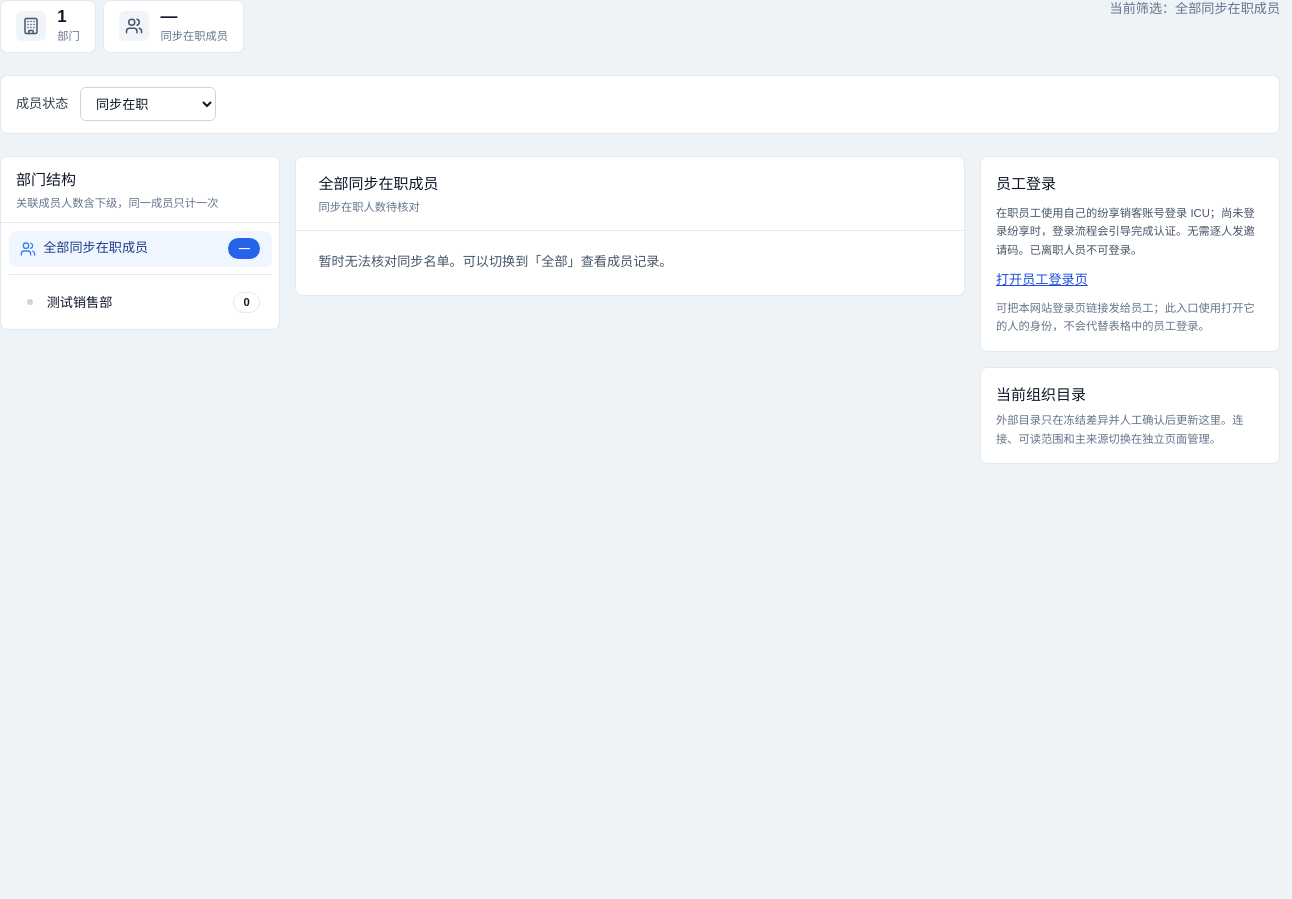
Test case: rejects cross-department readback after a department permission write
The width and height of the screenshot is (1292, 899).
Click the button "测试销售部 0". click: click(80, 303)
box: [27,292,260,313]
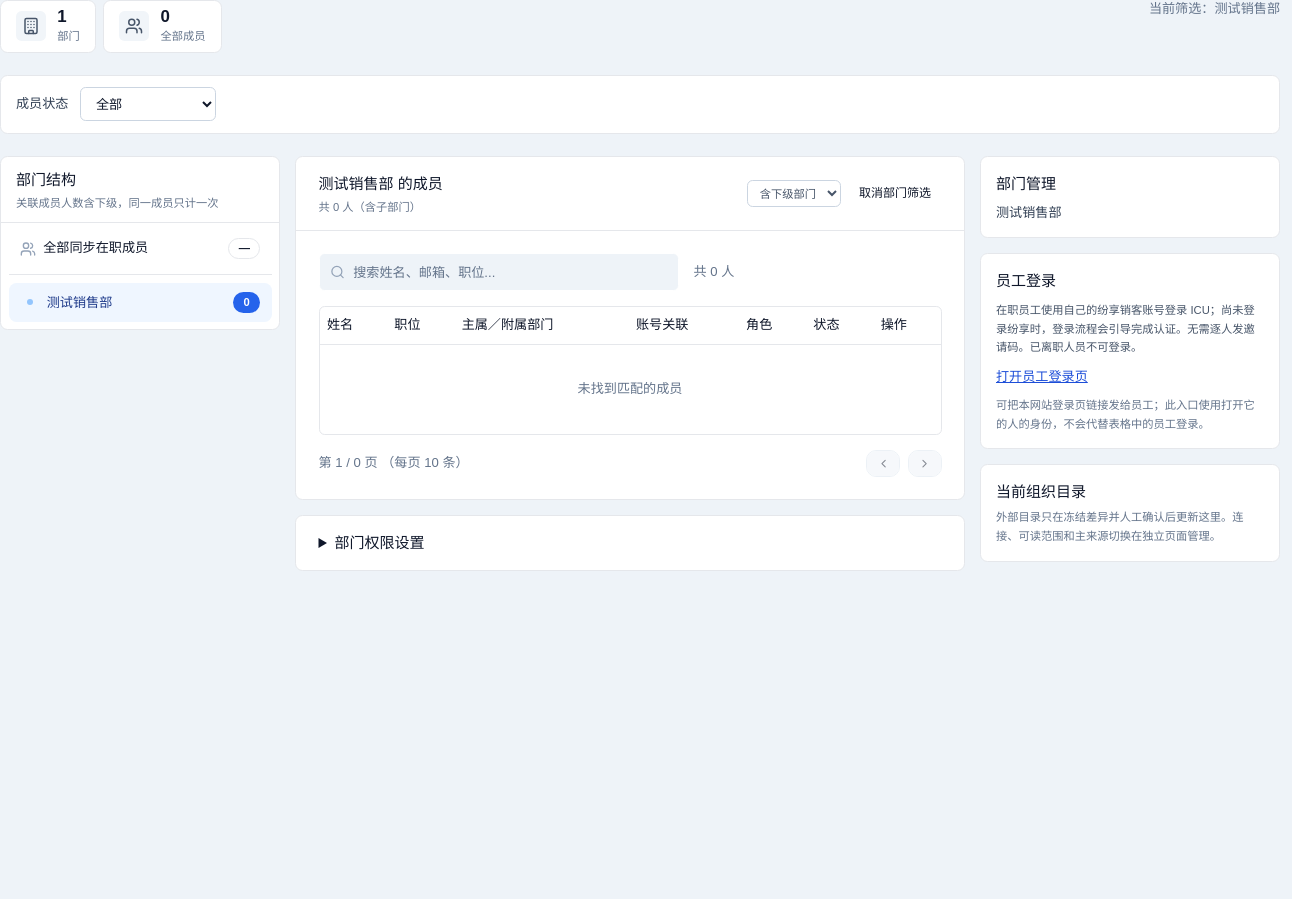
Click the heading "部门权限设置". click: click(379, 543)
box: [334,534,424,551]
(page scrolled)
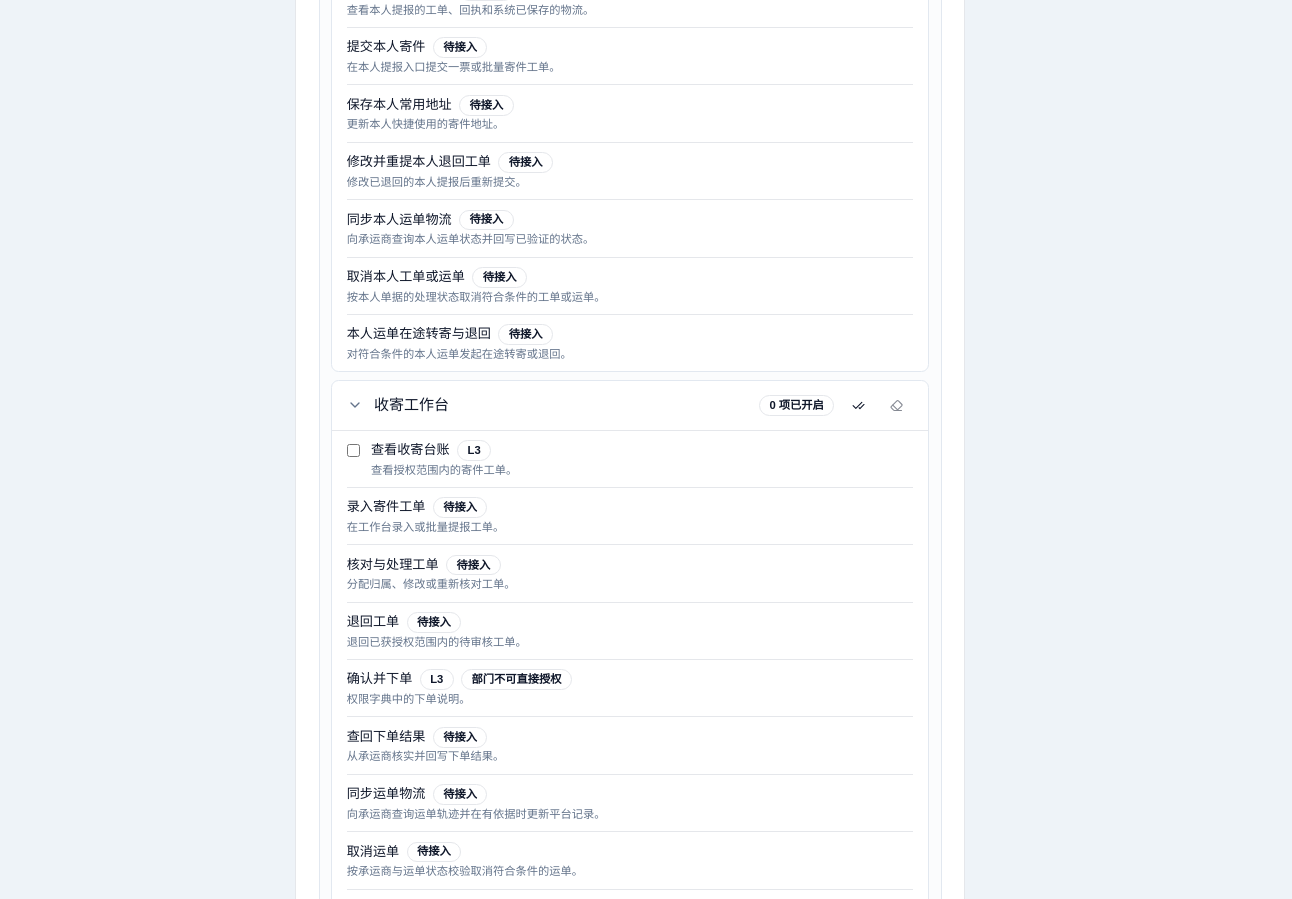
Click the checkbox named "查看收寄台账". click: click(353, 450)
box: [347,444,360,457]
(page scrolled)
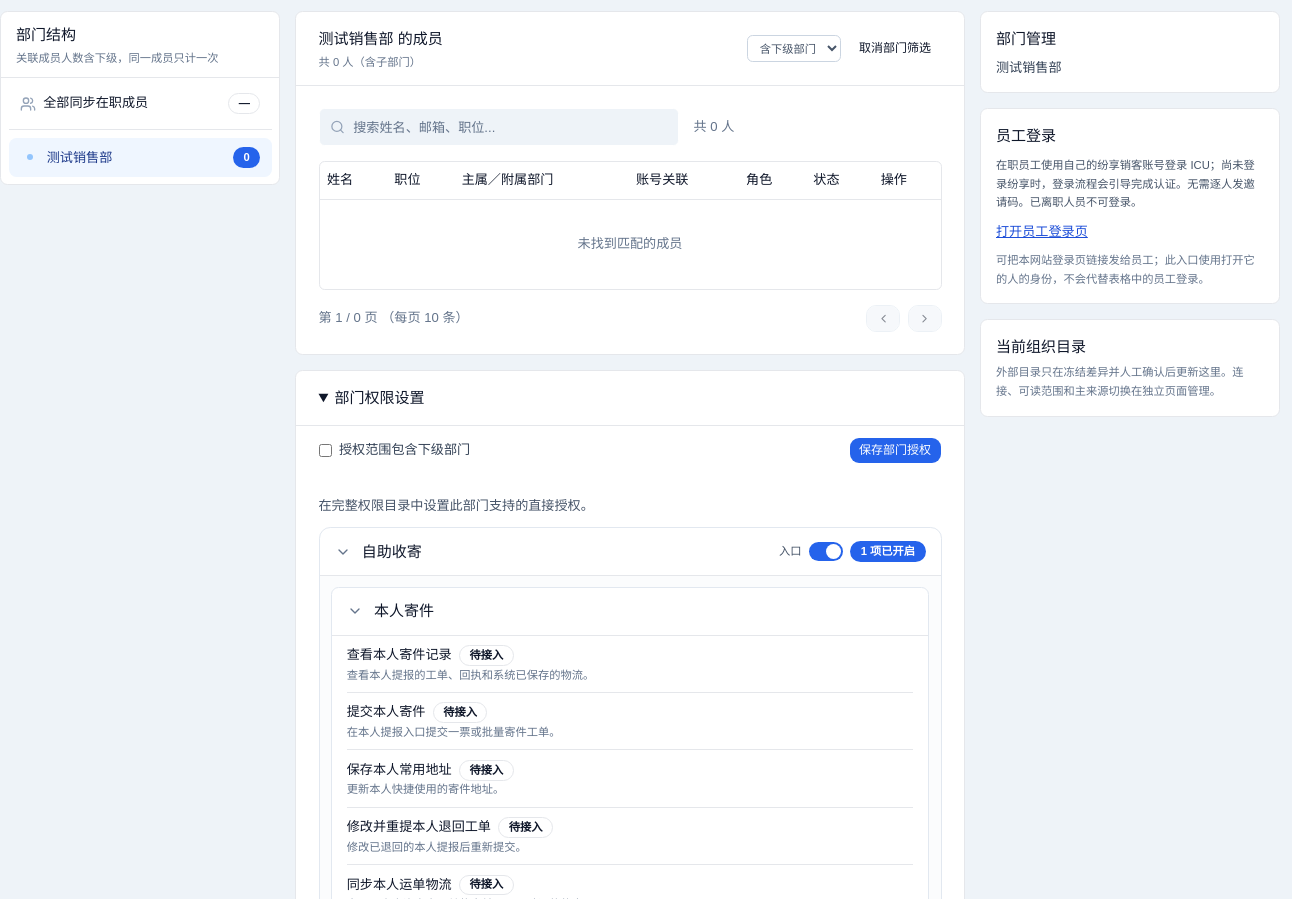
Click the button "保存部门授权". click: click(895, 451)
box: [849,437,942,464]
(page scrolled)
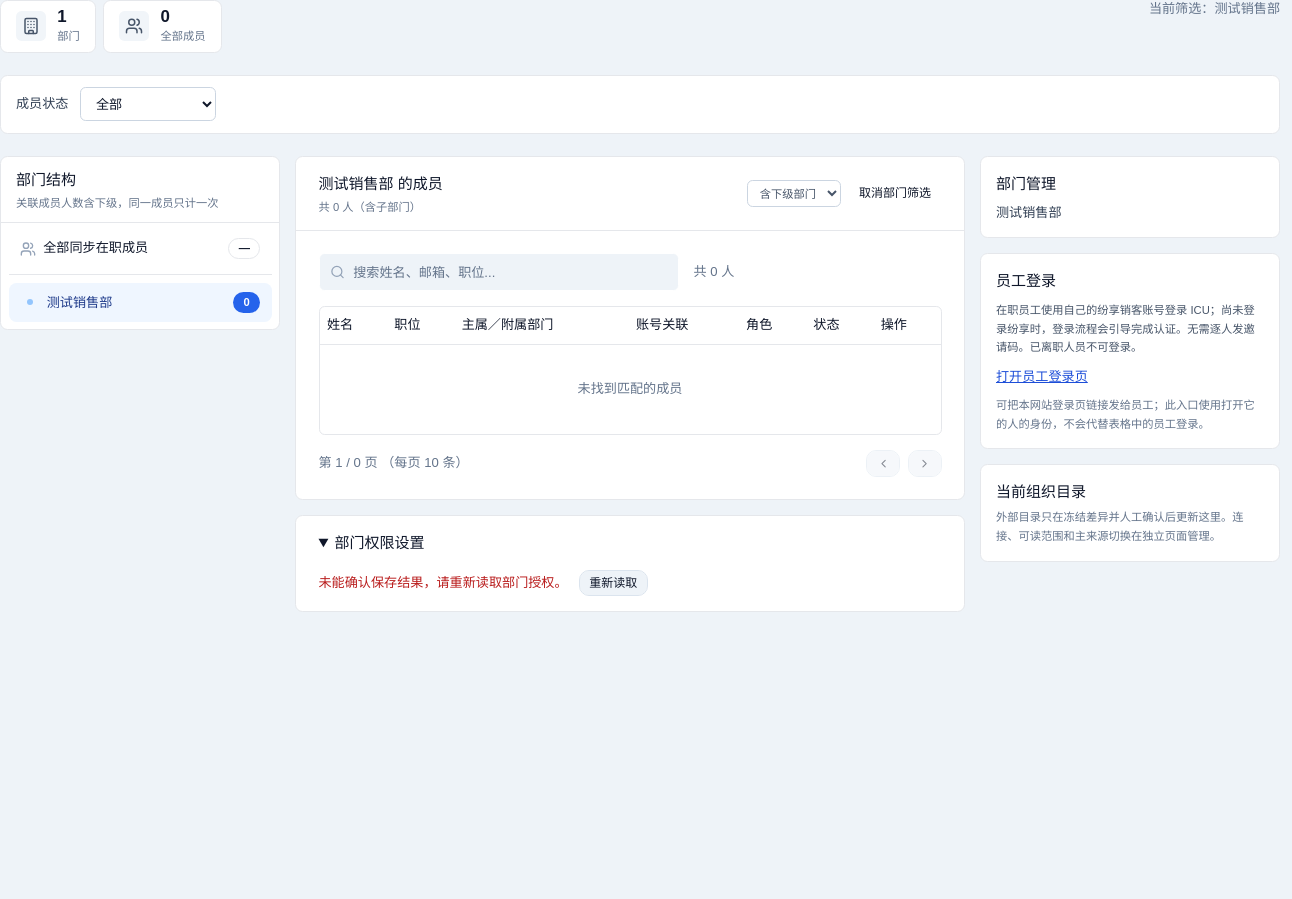
Check: the text "未能确认保存结果，请重新读取部门授权。" is shown, box [318,574,568,593]
Check: the button "保存部门授权" is gone
